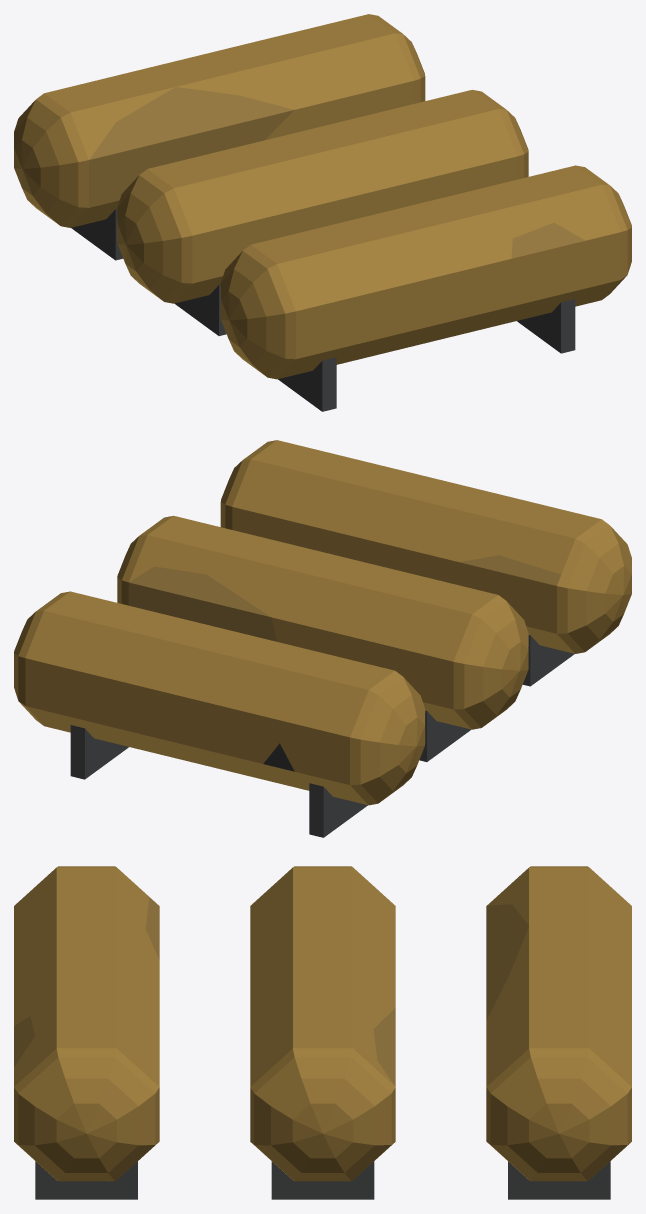
The model's file is SM_Props_Industrial_GasTank_02.fbx.
3 renders of one model, top to bottom at view 1: azimuth 30°, elevation 25°; view 2: azimuth 150°, elevation 25°; view 3: azimuth 270°, elevation 25°, orthographic. The views are drawn at different scales.
Parts seen in each view (by area): view 1: SM_Props_Industrial_GasTank_02; view 2: SM_Props_Industrial_GasTank_02; view 3: SM_Props_Industrial_GasTank_02.
Boxes of the visible parts, box(x1,y1,x2,y2) form: SM_Props_Industrial_GasTank_02: box(14, 14, 631, 411); SM_Props_Industrial_GasTank_02: box(14, 440, 631, 837); SM_Props_Industrial_GasTank_02: box(14, 866, 631, 1199).
Bounding box in the file's own units: 528 × 192 × 628.
